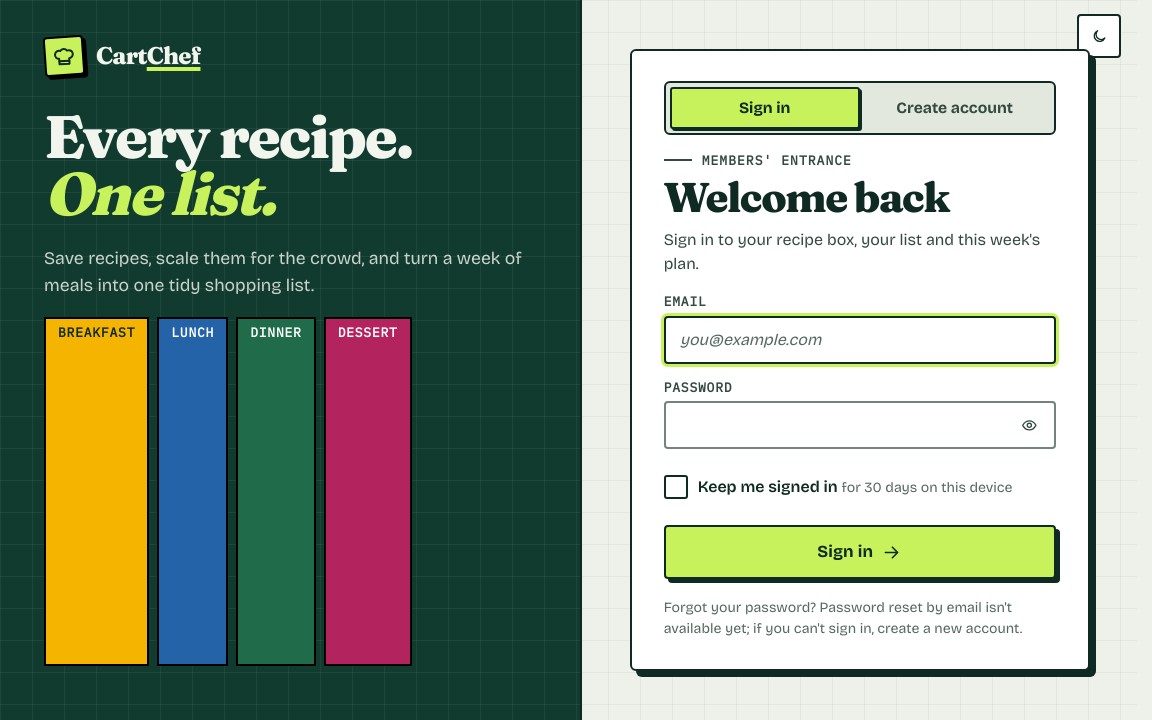
Scenario: sign in and sign up › shows inline errors after blur, not before
Type "not-an-email" into the field labelled "Email" at (860, 340), box [664,316,1056,364]
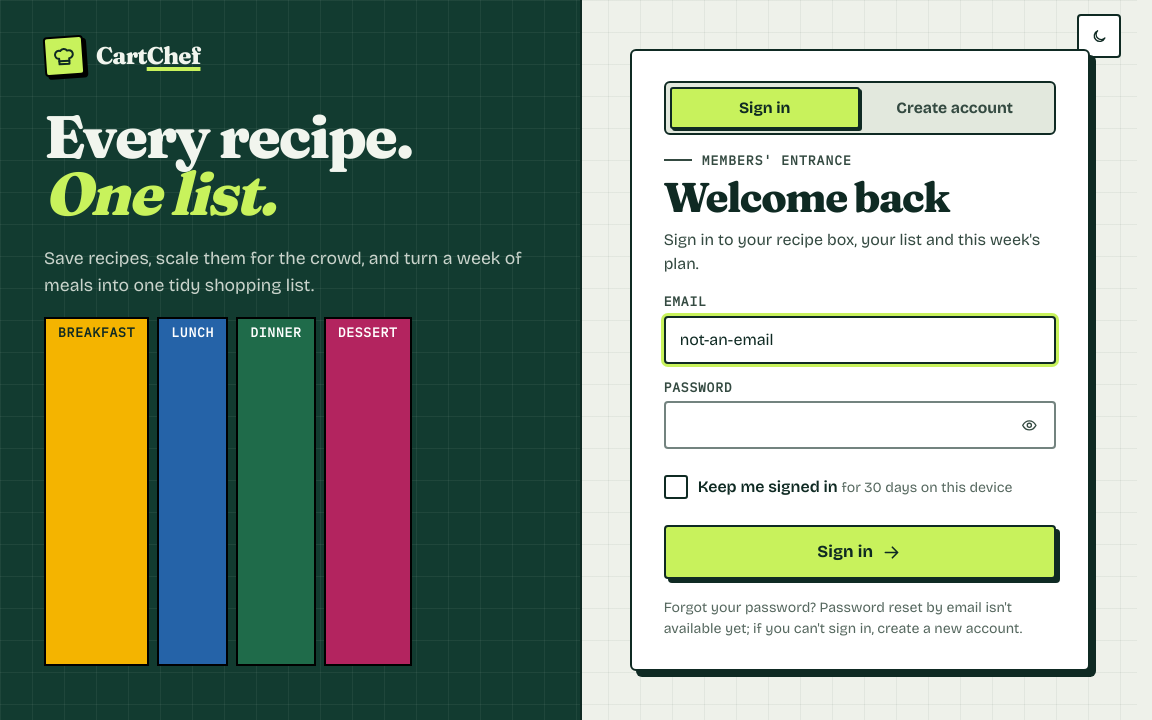
Expected: the text "valid email" is not shown
Press Tab
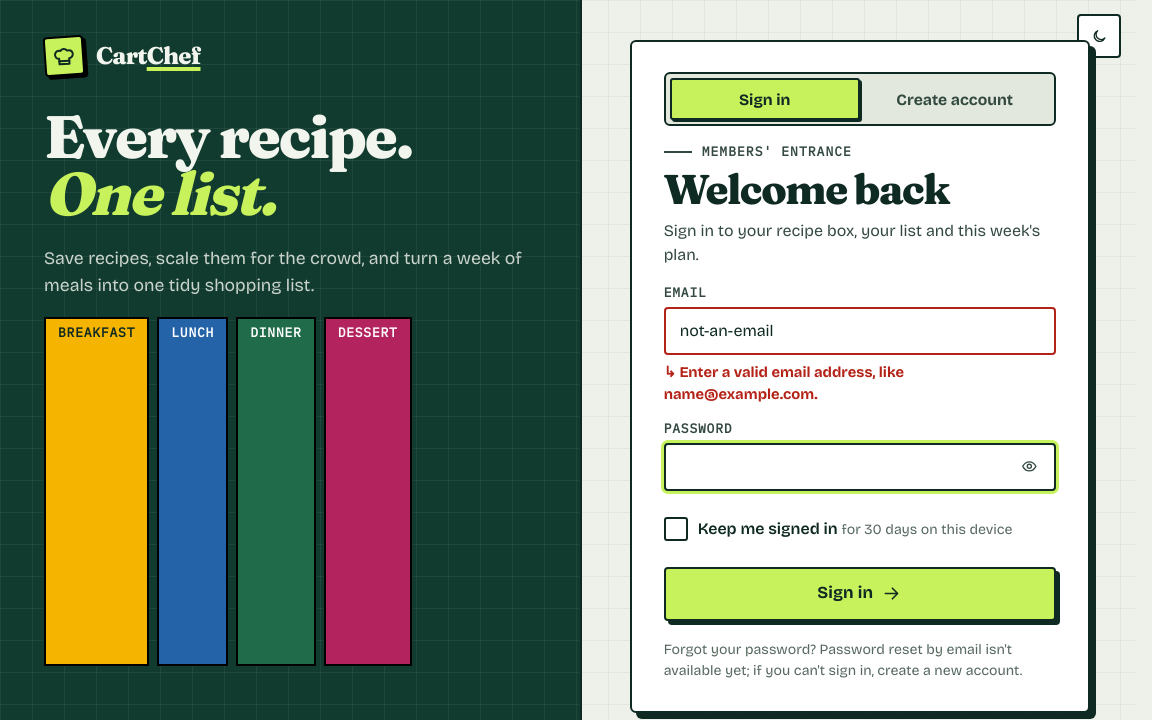
Now the text "Enter a valid email address, like name@example.com." is shown, box [664,363,904,403]
